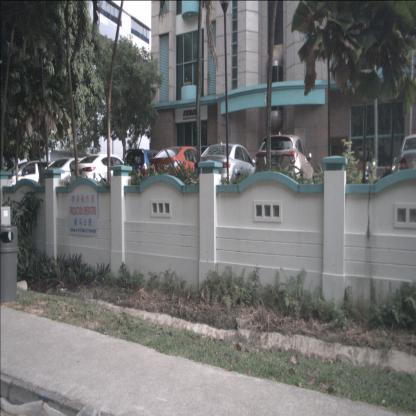vehicle-car: (252, 135, 314, 192), (194, 144, 260, 192), (149, 146, 216, 192), (38, 157, 111, 198), (69, 154, 139, 195), (0, 161, 68, 202), (124, 149, 182, 194), (397, 133, 416, 199)
vehicle-motorcycle: (361, 157, 396, 199)
